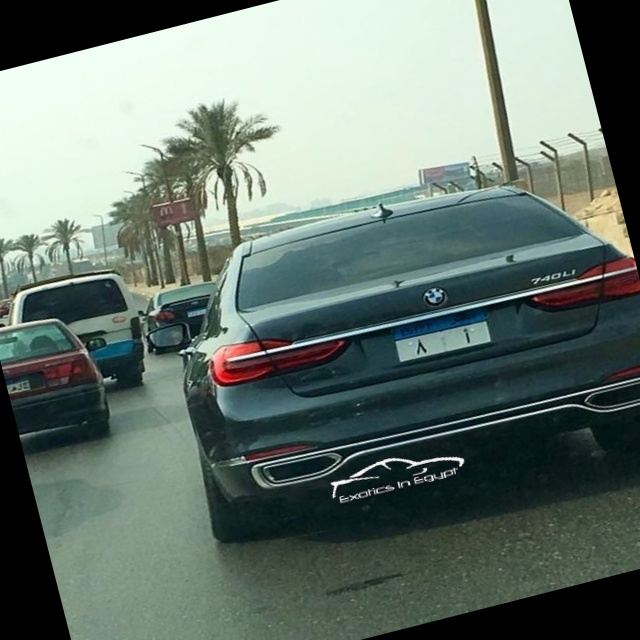License Plate: (388, 303, 495, 368)
